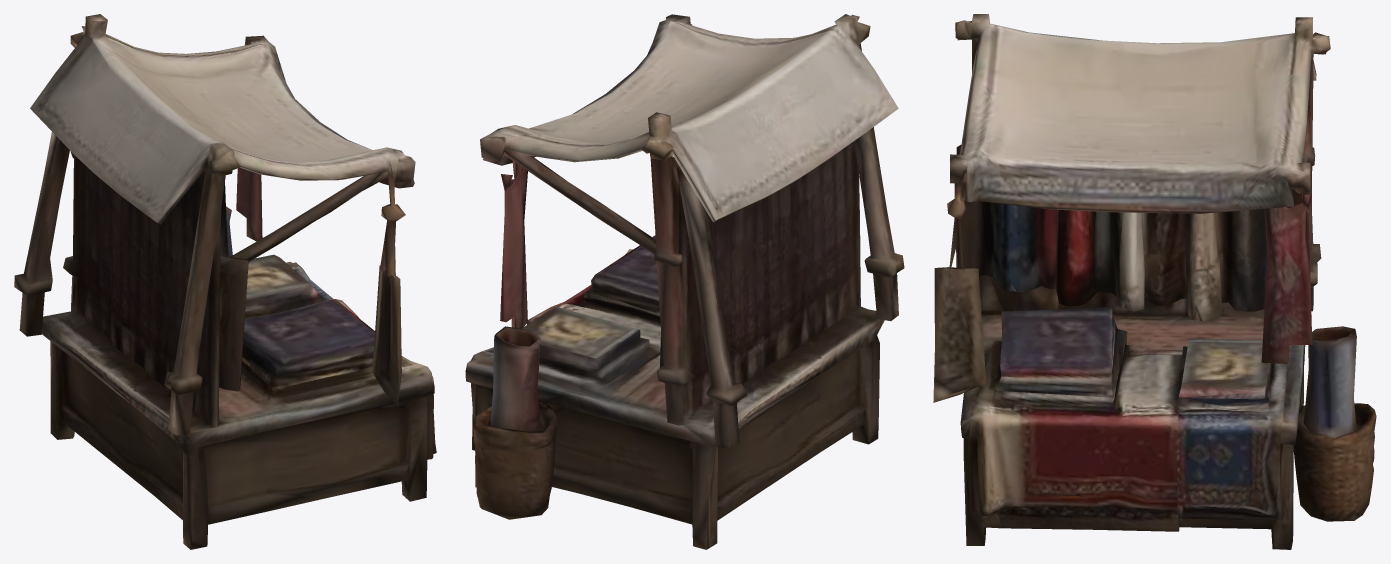
The model's file is stall.glb.
3 renders of one model, left to right at view 1: azimuth 30°, elevation 25°; view 2: azimuth 150°, elevation 25°; view 3: azimuth 270°, elevation 25°, orthographic. The views are drawn at different scales.
Visible parts, largest first — view 1: stall_cloth; view 2: stall_cloth; view 3: stall_cloth.
Part boxes in pixels (x1,y1,x2,y2): stall_cloth: (14, 14, 436, 549); stall_cloth: (465, 14, 904, 549); stall_cloth: (933, 14, 1376, 549).
Bounding box in the file's own units: 0.1839 × 0.2566 × 0.2365.
Materials: 1 (1 with a texture image).
